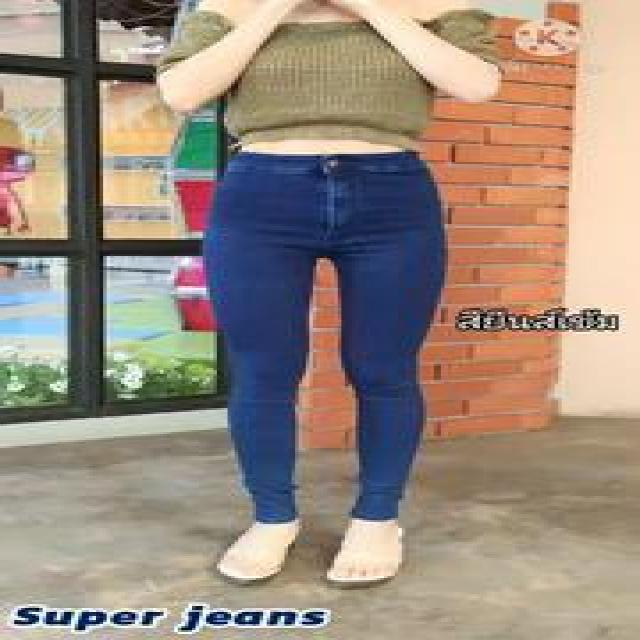Tshirt: (142, 9, 523, 155)
pants: (204, 149, 450, 529), (165, 267, 176, 269)
